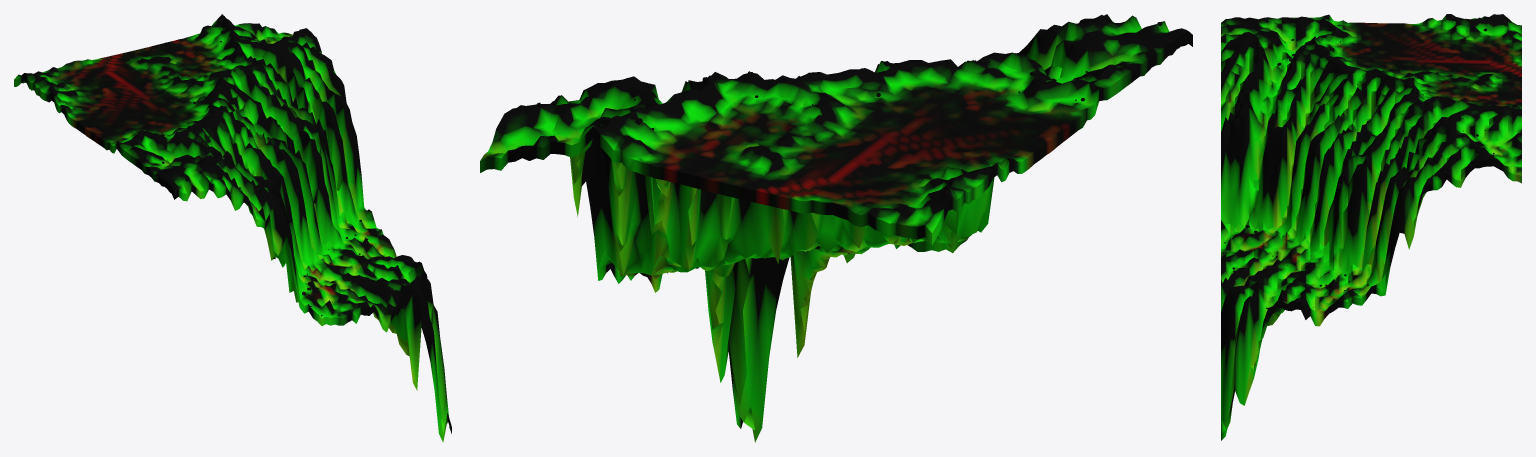
File: Terrain_01_06.fbx
3 renders of one model, left to right at view 1: azimuth 30°, elevation 25°; view 2: azimuth 150°, elevation 25°; view 3: azimuth 270°, elevation 25°, orthographic. The views are drawn at different scales.
Visible parts, largest first — view 1: Terrain_01_06_LOD0; view 2: Terrain_01_06_LOD0; view 3: Terrain_01_06_LOD0.
Boxes of the visible parts, box(x1,y1,x2,y2) form: Terrain_01_06_LOD0: box(14, 14, 451, 442); Terrain_01_06_LOD0: box(480, 14, 1192, 442); Terrain_01_06_LOD0: box(1221, 14, 1521, 440).
Size of what is drawn, in the model's own units: 385 by 433 by 384.
